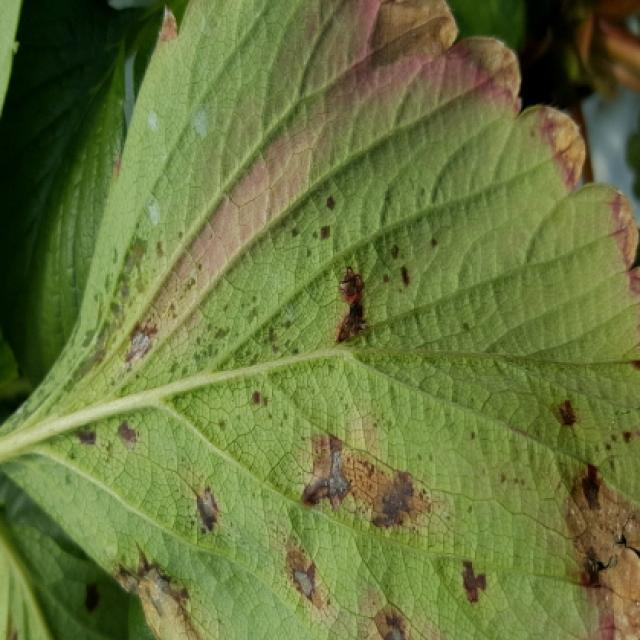Angular Leafspot: (0, 0, 638, 638)
